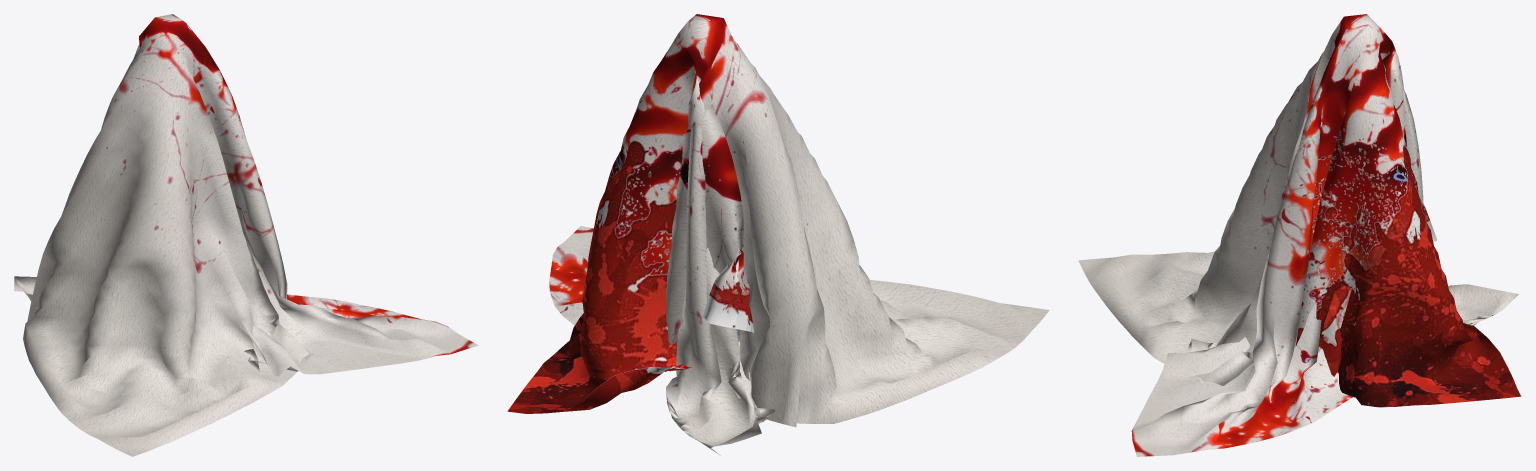
3 renders of one model, left to right at view 1: azimuth 30°, elevation 25°; view 2: azimuth 150°, elevation 25°; view 3: azimuth 270°, elevation 25°, orthographic. The views are drawn at different scales.
Parts seen in each view (by area): view 1: Plane001; view 2: Plane001; view 3: Plane001.
Part boxes in pixels (x1,y1,x2,y2): Plane001: (14,14,478,456); Plane001: (507,14,1049,455); Plane001: (1078,14,1521,456).
Size of the model in its own units: 0.9551 by 0.7191 by 0.8787.
1 material, 1 textured.
